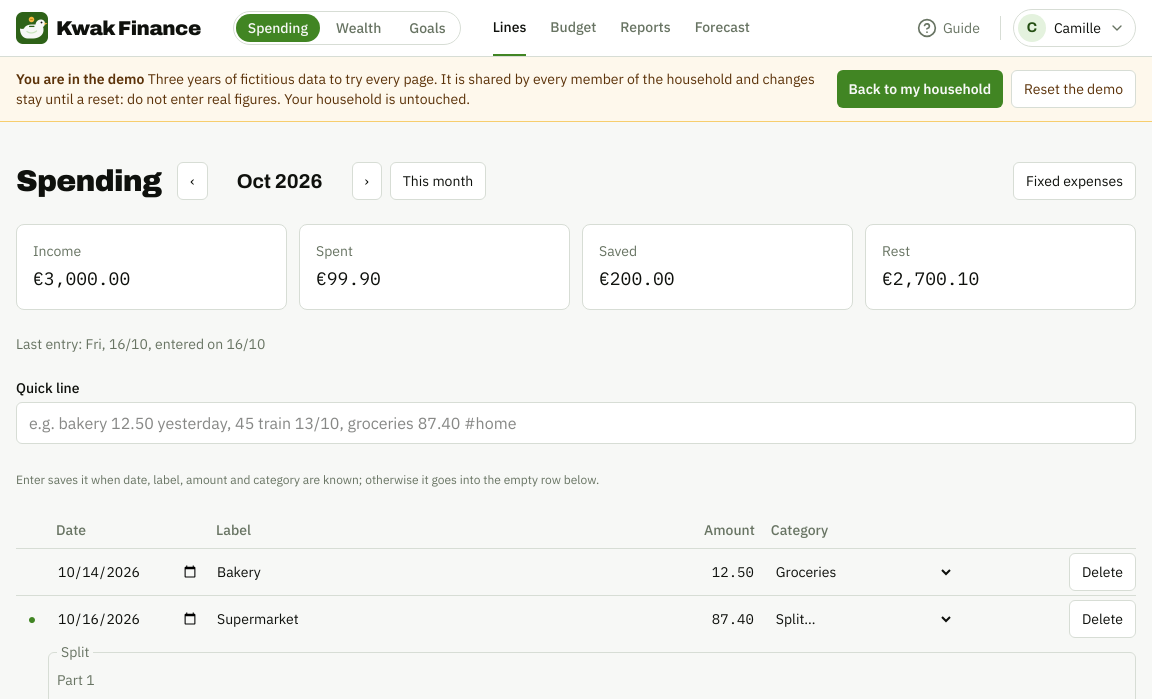
Test: in the demo the menu leaves it and hides the members
Click the button with aria-label "Account menu: Camille": (1074, 28) [1013,9,1136,47]
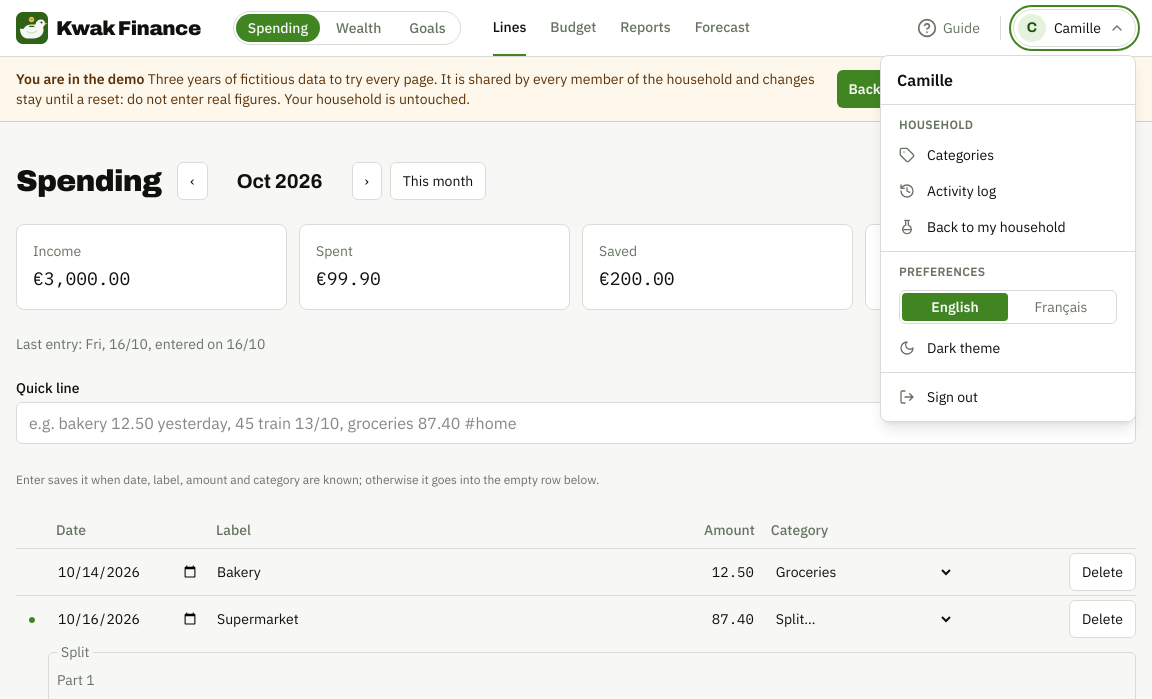
Now the number of buttons "Back to my household" is 2, box [887,209,1129,245]; [836,70,1003,108]
Now the link "Activity log" is shown, box [899,182,996,200]
